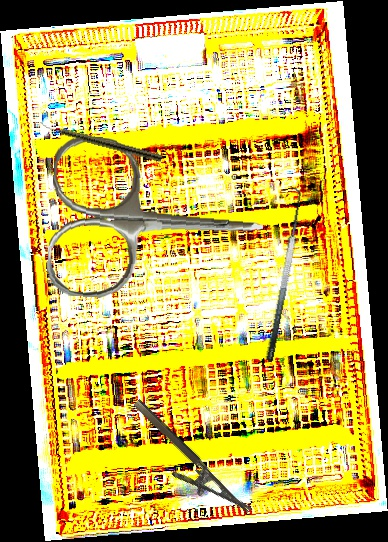Handpiece: (37, 120, 164, 163)
Iris Scissors: (45, 134, 269, 309)
Needle Holder: (118, 397, 252, 532)
Spatula Surgical: (251, 185, 310, 362)
